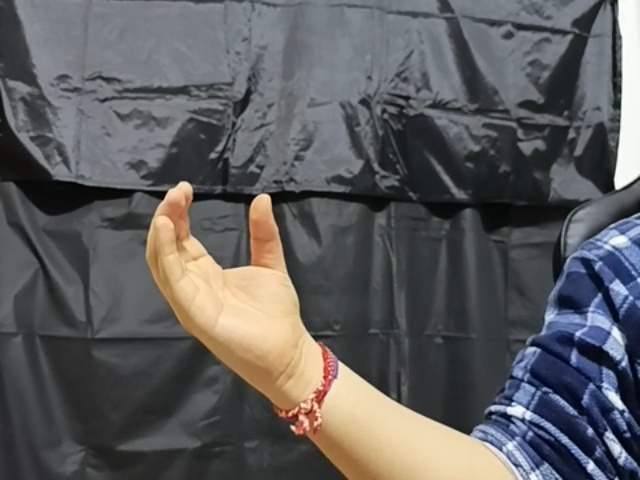C: (145, 180, 328, 384)
